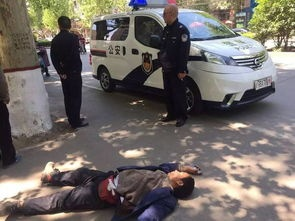falling: (0, 147, 204, 220)
